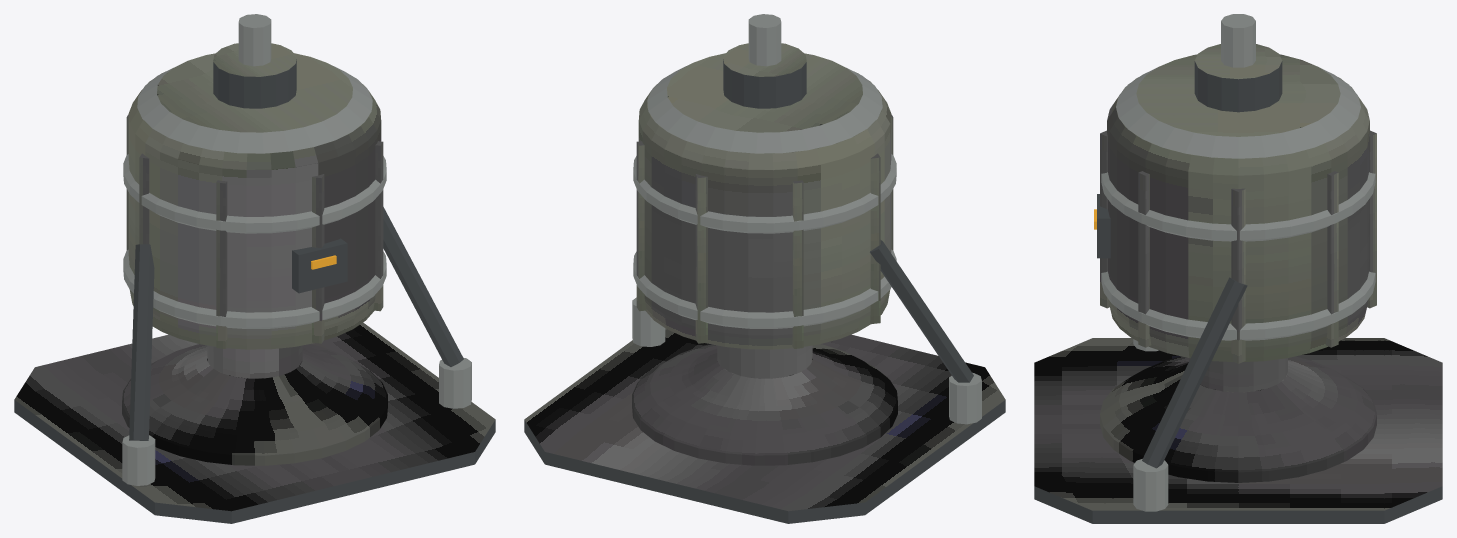
File: Building_DeepDrill.glb
3 renders of one model, left to right at view 1: azimuth 30°, elevation 25°; view 2: azimuth 150°, elevation 25°; view 3: azimuth 270°, elevation 25°, orthographic. The views are drawn at different scales.
Parts seen in each view (by area): view 1: DeepDrill; view 2: DeepDrill; view 3: DeepDrill.
Part boxes in pixels (box(x1,y1,x2,y2)): DeepDrill: box(14, 14, 495, 523); DeepDrill: box(524, 14, 1005, 523); DeepDrill: box(1034, 14, 1442, 523).
Bounding box in the file's own units: 2.83 × 3.15 × 2.8.
Materials: 1 (1 with a texture image).
